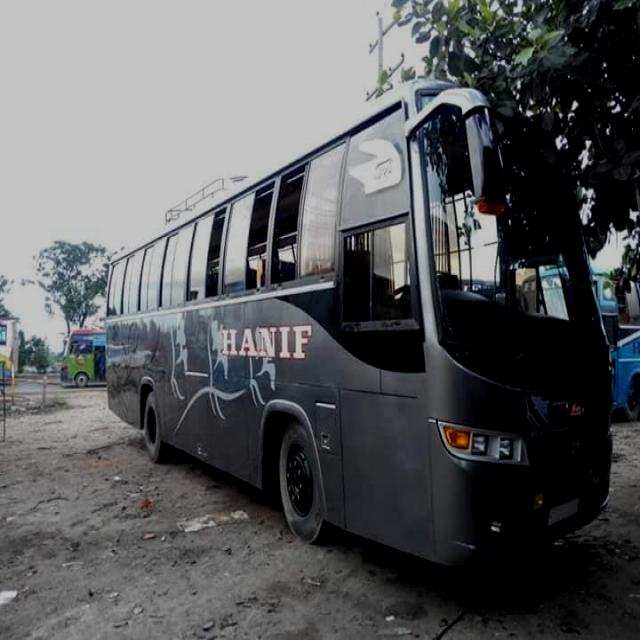bus: (105, 79, 616, 571)
